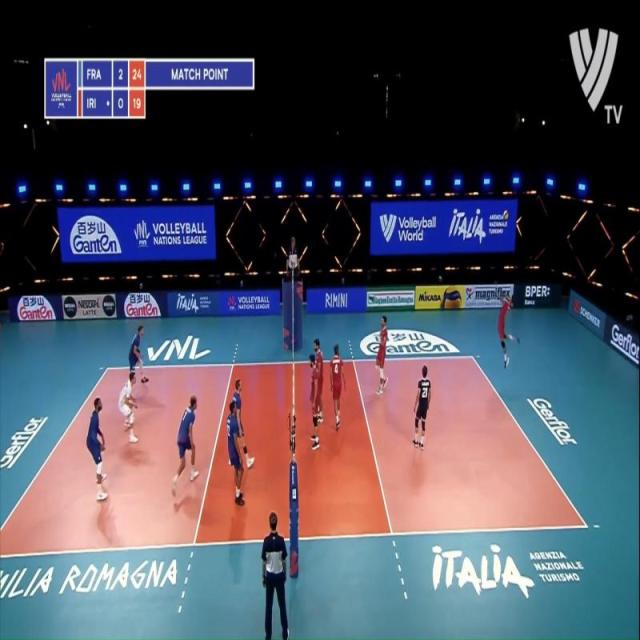volleyball: (503, 209, 509, 221)
